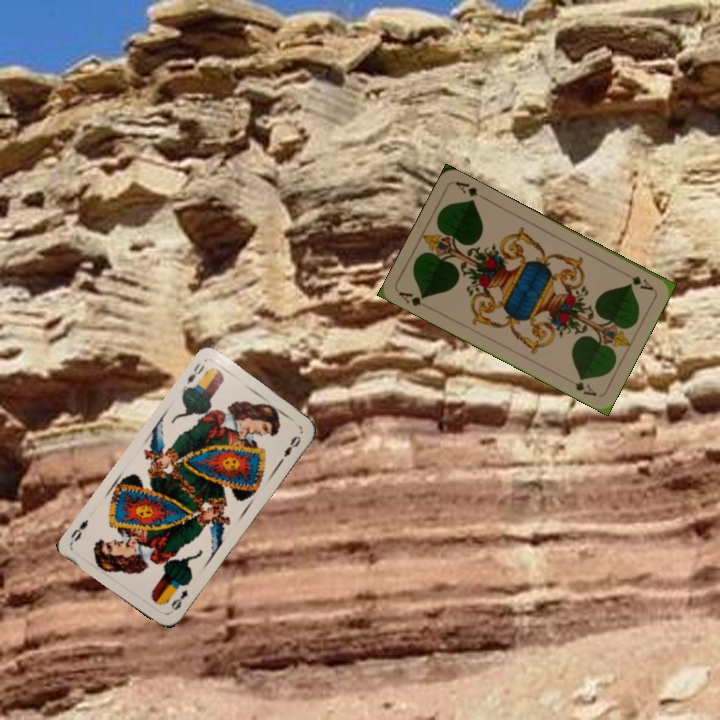EO: (179, 359, 210, 393), (164, 585, 190, 616)
GA: (619, 267, 656, 293), (395, 288, 429, 309)
